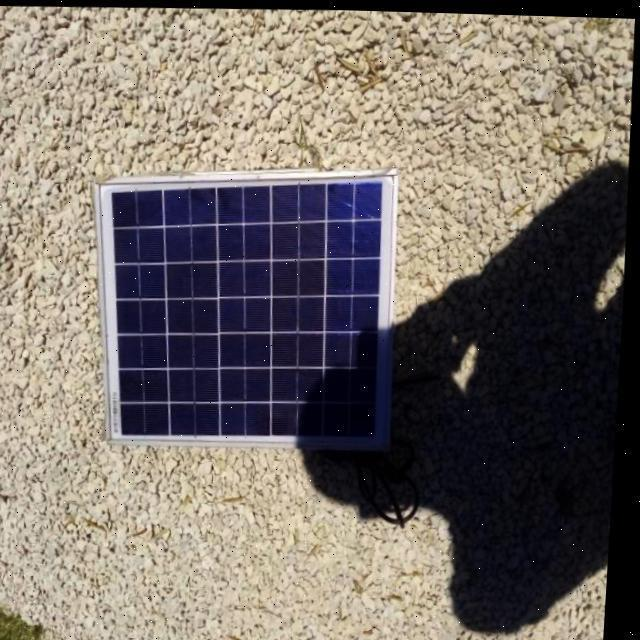Normal Solar Panel: (85, 160, 404, 452)
